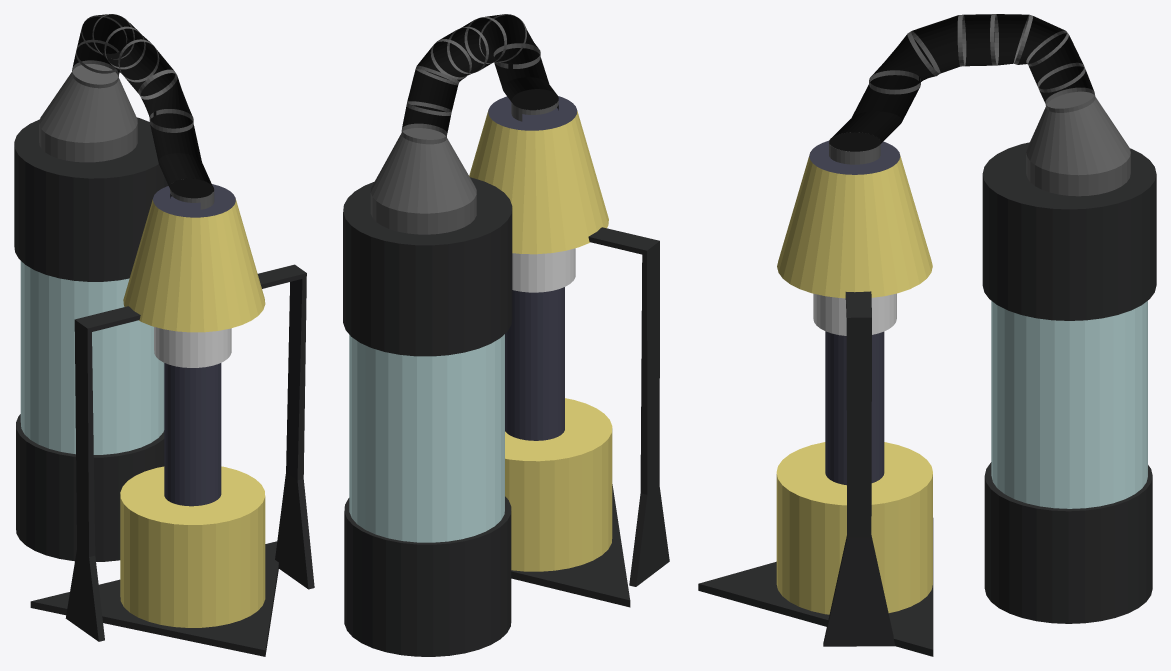
Rendered from resourceNodeDistro.fbx.
3 renders of one model, left to right at view 1: azimuth 30°, elevation 25°; view 2: azimuth 150°, elevation 25°; view 3: azimuth 270°, elevation 25°, orthographic. The views are drawn at different scales.
Visible parts, largest first — view 1: Cube, Cylinder, Cylinder.001; view 2: Cube, Cylinder, Cylinder.001; view 3: Cube, Cylinder, Cylinder.001.
Boxes of the visible parts, x1,y1,x2,y2 form: Cube: (14, 117, 314, 656); Cylinder: (39, 14, 214, 209); Cylinder.001: (154, 327, 231, 367); Cube: (343, 96, 669, 656); Cylinder: (370, 14, 558, 234); Cylinder.001: (512, 248, 575, 292); Cube: (698, 140, 1156, 656); Cylinder: (829, 14, 1130, 196); Cylinder.001: (813, 293, 896, 335).
Bounding box in the file's own units: 400 × 807 × 585.
